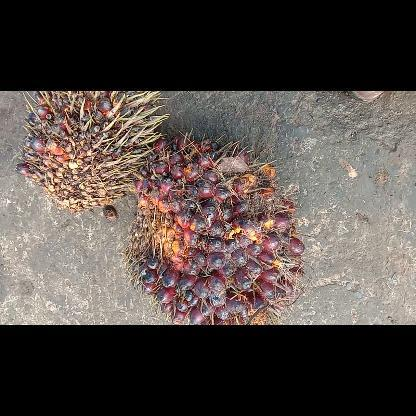Kurang masak: (124, 128, 306, 324)
TBS abnormal: (16, 90, 166, 214)
